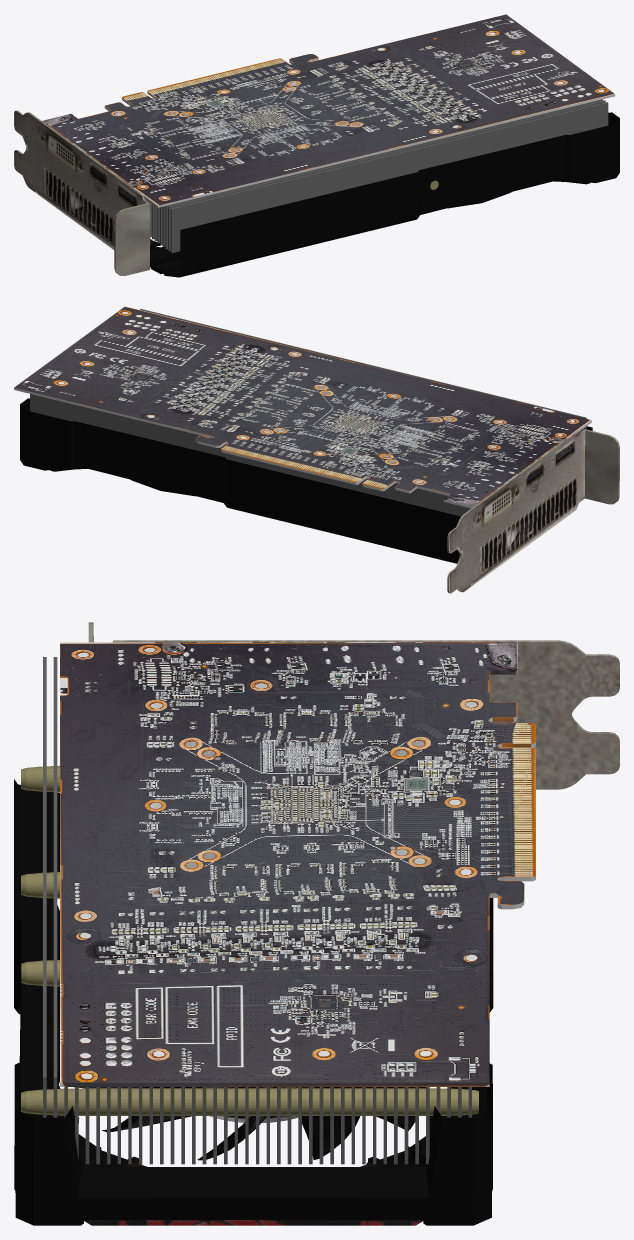
Rendered from Gpu.fbx.
3 views of the same model, one above another, from view 1: azimuth 30°, elevation 25°; view 2: azimuth 150°, elevation 25°; view 3: azimuth 270°, elevation 25° (orthographic). The views are drawn at different scales.
Parts seen in each view (by area): view 1: Gpu; view 2: Gpu; view 3: Gpu.
Boxes of the visible parts, x1,y1,x2,y2 form: Gpu: (14, 14, 619, 277); Gpu: (14, 306, 619, 593); Gpu: (14, 622, 619, 1225).
Size of the model in its own units: 85.12 by 12.37 by 46.
